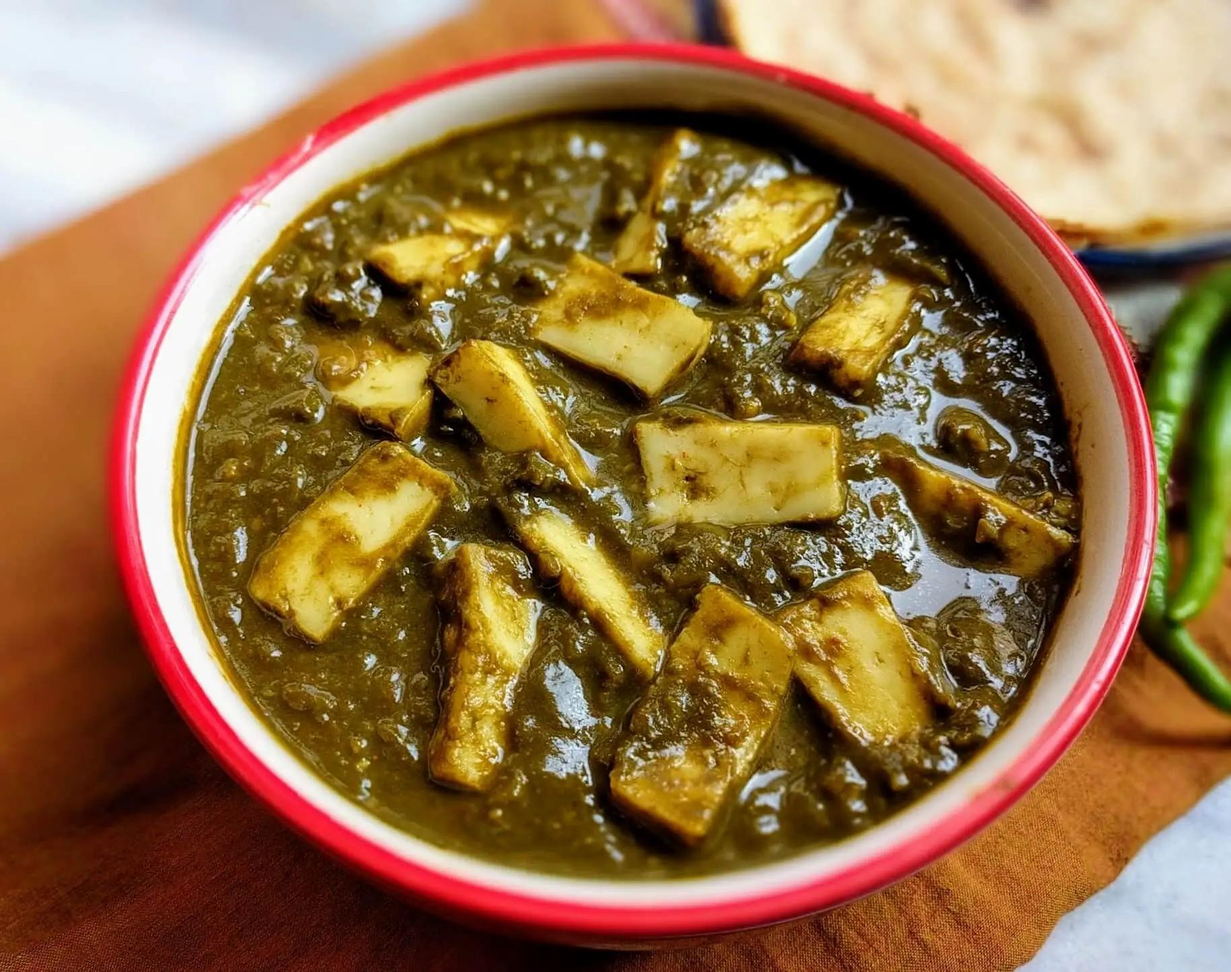PalakPaneer: (180, 98, 1077, 881)
